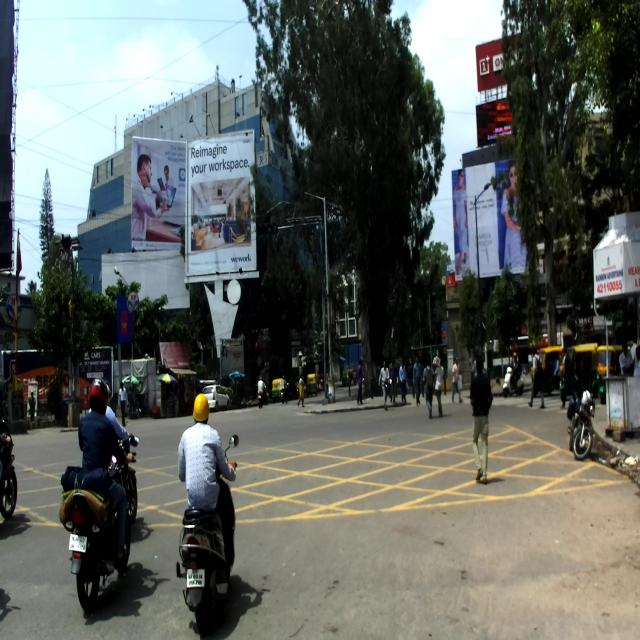Car_TATA: (201, 384, 231, 413)
autorickshaw: (593, 340, 624, 405)
motorcycle_Honda: (65, 452, 136, 612)
scooter: (175, 434, 239, 634), (501, 366, 525, 398)
